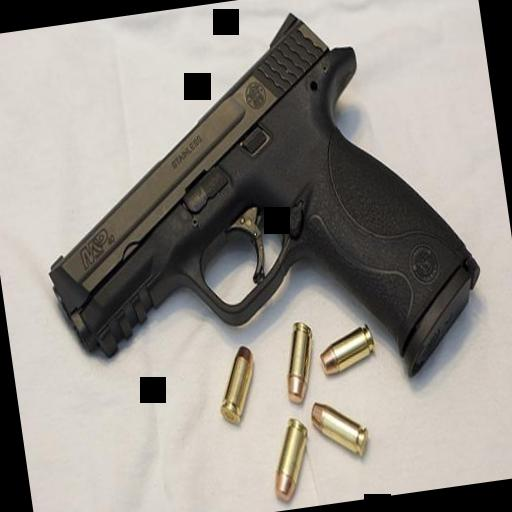Handgun: (15, 0, 492, 432)
